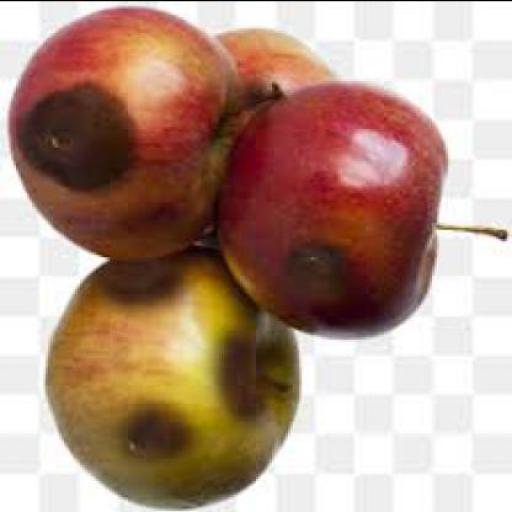biodegradable: (219, 78, 511, 334), (9, 2, 284, 256), (50, 239, 304, 508), (210, 21, 343, 210)
